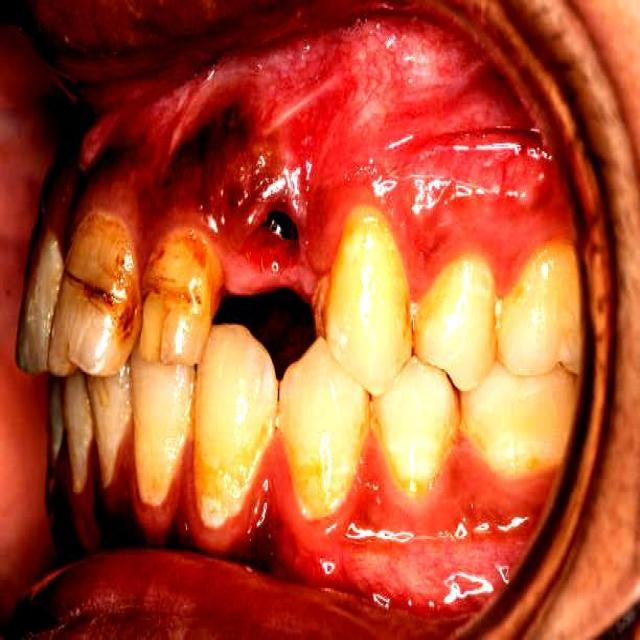caries: (136, 243, 215, 344), (59, 240, 135, 344)
